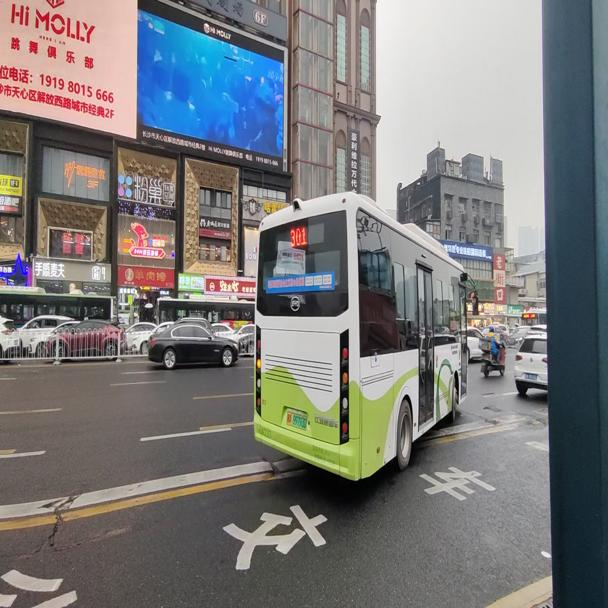bus: (251, 190, 478, 484), (521, 311, 547, 326)
screen: (290, 226, 305, 246)
